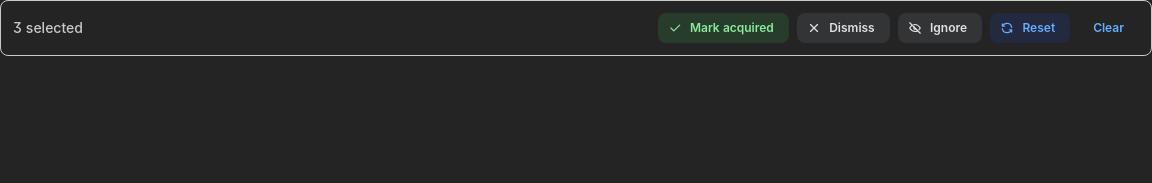
ReleasesBulkActionBar › explains Dismiss on hover
Step 1. Hover over the button "Dismiss" → (843, 28), box [797,13,890,43]
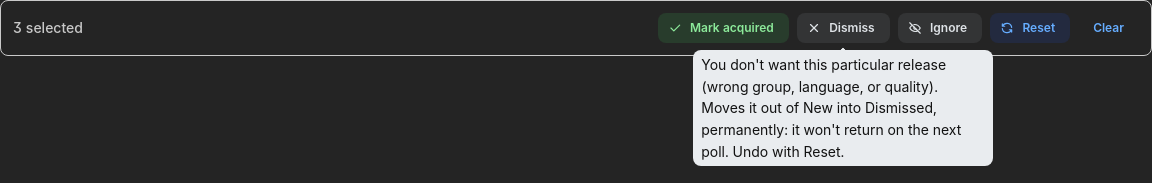
Expected: the tooltip "You don't want this particular release (wrong group, language, or quality). Moves it out of New into Dismissed, permanen" is shown, [701,56,961,160]
